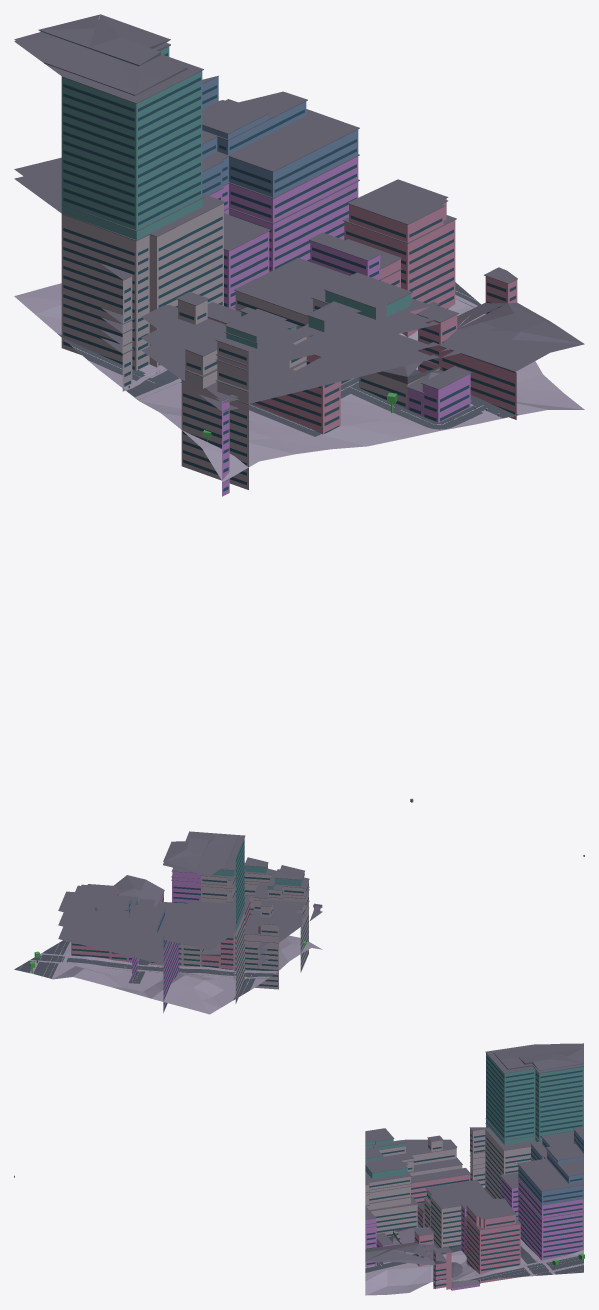
The picture shows the model from 3 angles, top to bottom: view 1: azimuth 30°, elevation 25°; view 2: azimuth 150°, elevation 25°; view 3: azimuth 270°, elevation 25°; orthographic projection. The views are drawn at different scales.
Visible parts, largest first — view 1: compiled-chunk; view 2: compiled-chunk; view 3: compiled-chunk.
Part boxes in pixels (bbox=[...]): compiled-chunk: bbox=[14, 14, 584, 802]; compiled-chunk: bbox=[14, 831, 584, 1014]; compiled-chunk: bbox=[14, 1043, 584, 1295].
Bounding box in the file's own units: 169 × 106 × 314.
